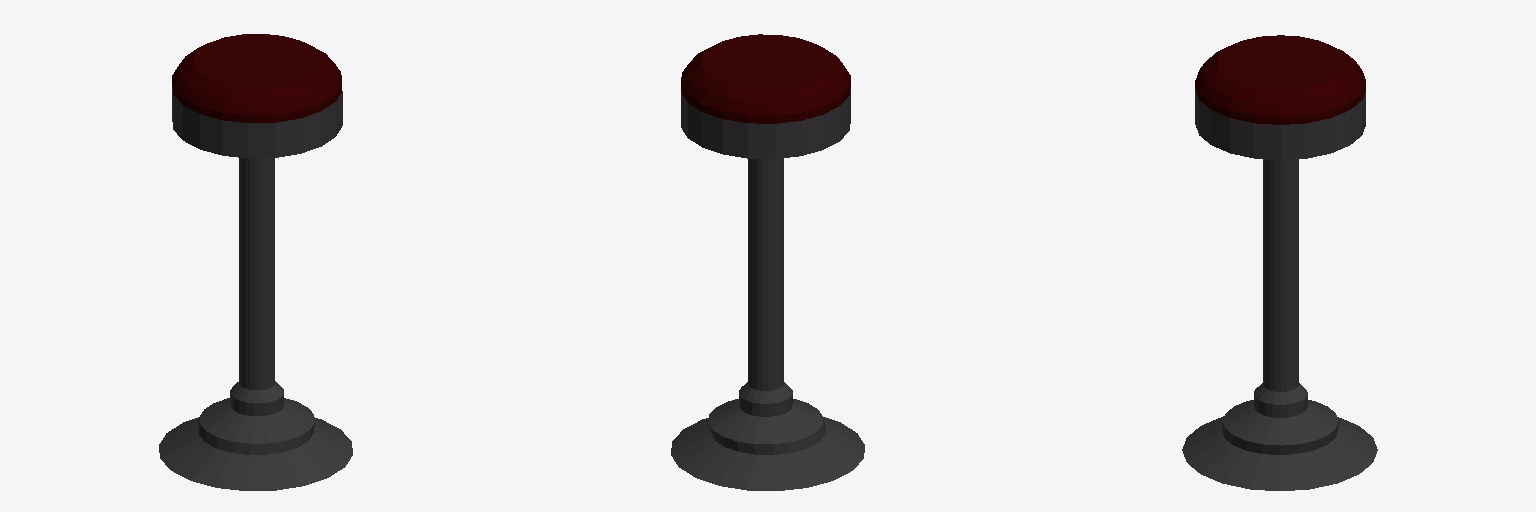
The model's file is barstool.obj.
3 renders of one model, left to right at view 1: azimuth 30°, elevation 25°; view 2: azimuth 150°, elevation 25°; view 3: azimuth 270°, elevation 25°, orthographic.
Parts seen in each view (by area): view 1: pCylinder3, pCylinder2; view 2: pCylinder3, pCylinder2; view 3: pCylinder3, pCylinder2.
Part boxes in pixels (left/top/right/bottom): pCylinder3: left=159, top=86, right=352, bottom=490; pCylinder2: left=172, top=34, right=341, bottom=122; pCylinder3: left=671, top=89, right=864, bottom=490; pCylinder2: left=681, top=34, right=850, bottom=123; pCylinder3: left=1182, top=90, right=1377, bottom=490; pCylinder2: left=1195, top=35, right=1365, bottom=124.
Size of the model in its own units: 2.59 by 5.67 by 2.59.